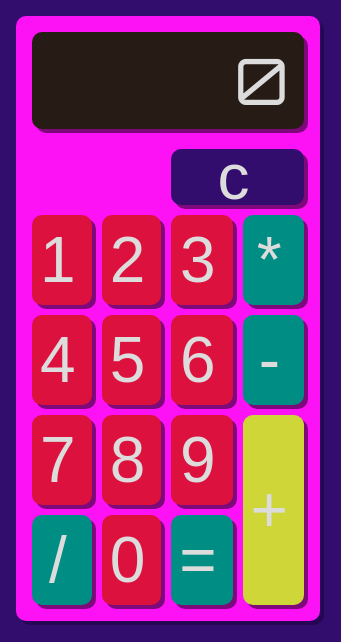
Calculator View › Deve resetar o display caso um operador seja apertado
This screenshot has width=341, height=642.
What coordinates should you click on to do the following:
click the button with test id "button-1"
I would click on:
 (62, 260)
Its box is 32,214 -> 92,304.
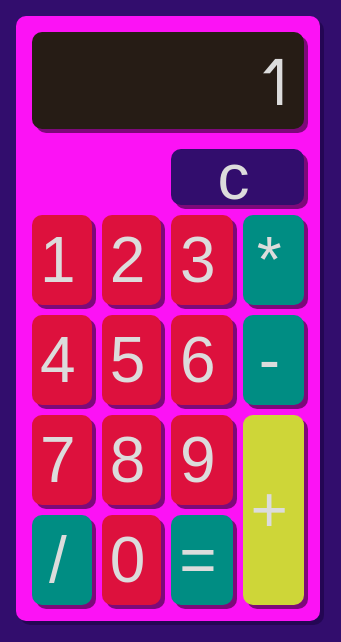
What coordinates should you click on to do the following:
click the button with test id "button-2"
I would click on:
 (131, 260)
Its box is 102,214 -> 161,304.
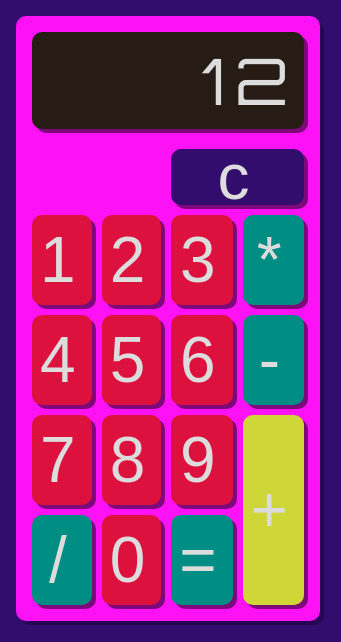
What coordinates should you click on to do the following:
click the button with test id "button-+"
I would click on:
 (273, 510)
Its box is 243,414 -> 304,604.
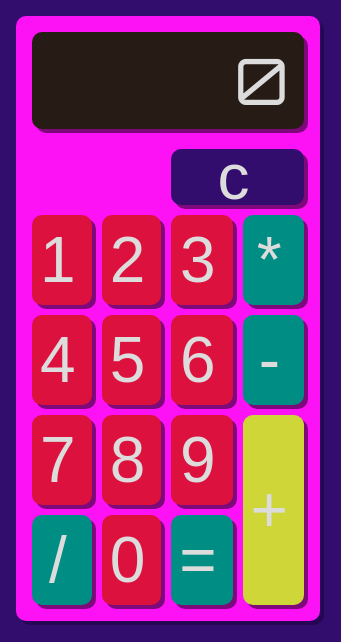
Expected: the text with test id "display" reads "0", 235,40 -> 296,120
